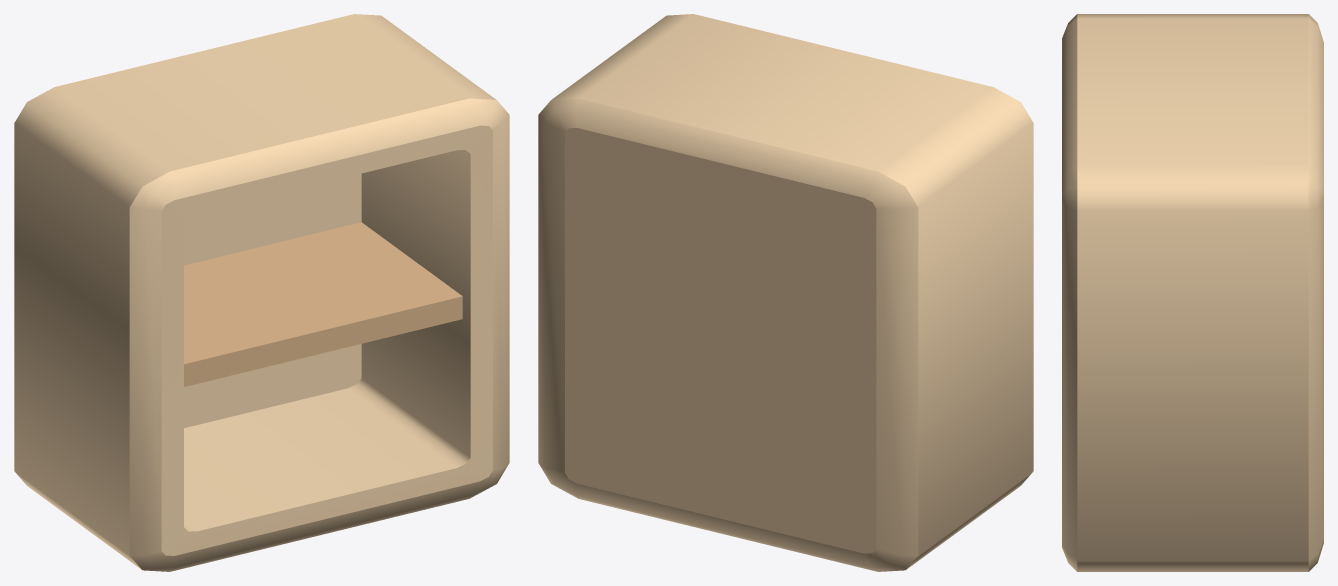
The model's file is Furnit_A_14.glb.
3 renders of one model, left to right at view 1: azimuth 30°, elevation 25°; view 2: azimuth 150°, elevation 25°; view 3: azimuth 270°, elevation 25°, orthographic.
Visible parts, largest first — view 1: Furnit_A_14; view 2: Furnit_A_14; view 3: Furnit_A_14.
Boxes of the visible parts, x1,y1,x2,y2 form: Furnit_A_14: (14,14,509,571); Furnit_A_14: (538,14,1033,571); Furnit_A_14: (1062,14,1323,571).
Size of the model in its own units: 0.6 by 0.6043 by 0.3574.
1 material, 1 textured.
